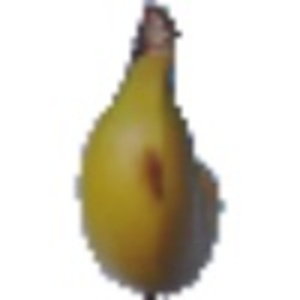banana: (74, 3, 233, 293)
